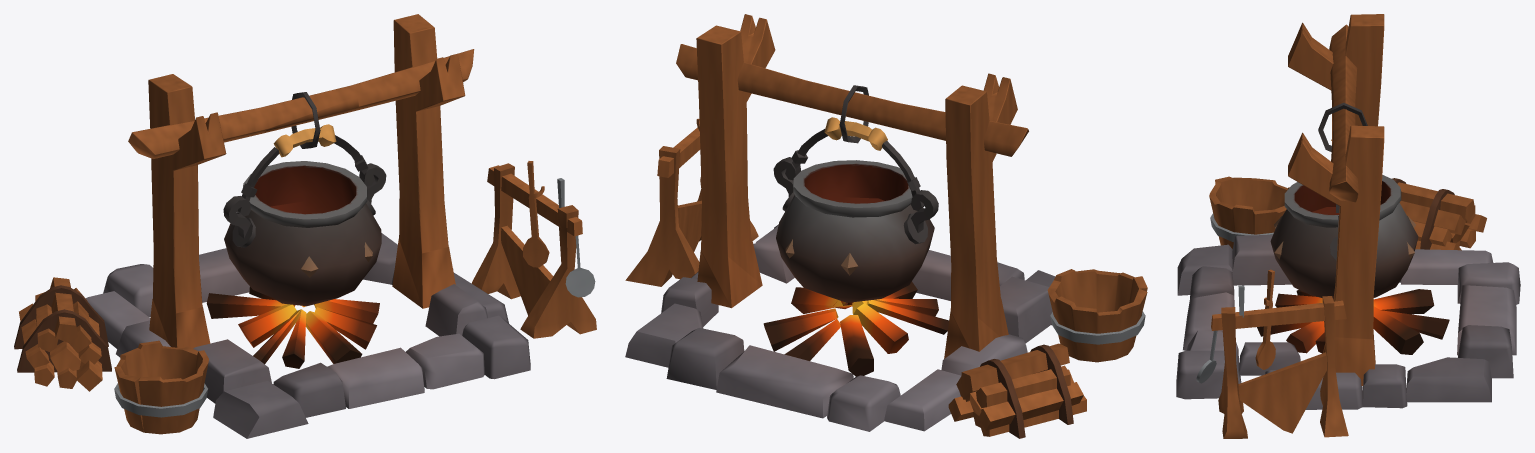
Rendered from cauldron.fbx.
3 views of the same model, side by side, from view 1: azimuth 30°, elevation 25°; view 2: azimuth 150°, elevation 25°; view 3: azimuth 270°, elevation 25° (orthographic). The views are drawn at different scales.
Parts seen in each view (by area): view 1: cauldron over fire 3d model; view 2: cauldron over fire 3d model; view 3: cauldron over fire 3d model.
Part boxes in pixels (x1,y1,x2,y2): cauldron over fire 3d model: (14, 14, 596, 438); cauldron over fire 3d model: (625, 14, 1147, 438); cauldron over fire 3d model: (1176, 14, 1520, 438).
Bounding box in the file's own units: 0.9995 × 0.561 × 0.6606.
5 materials, 5 textured.
